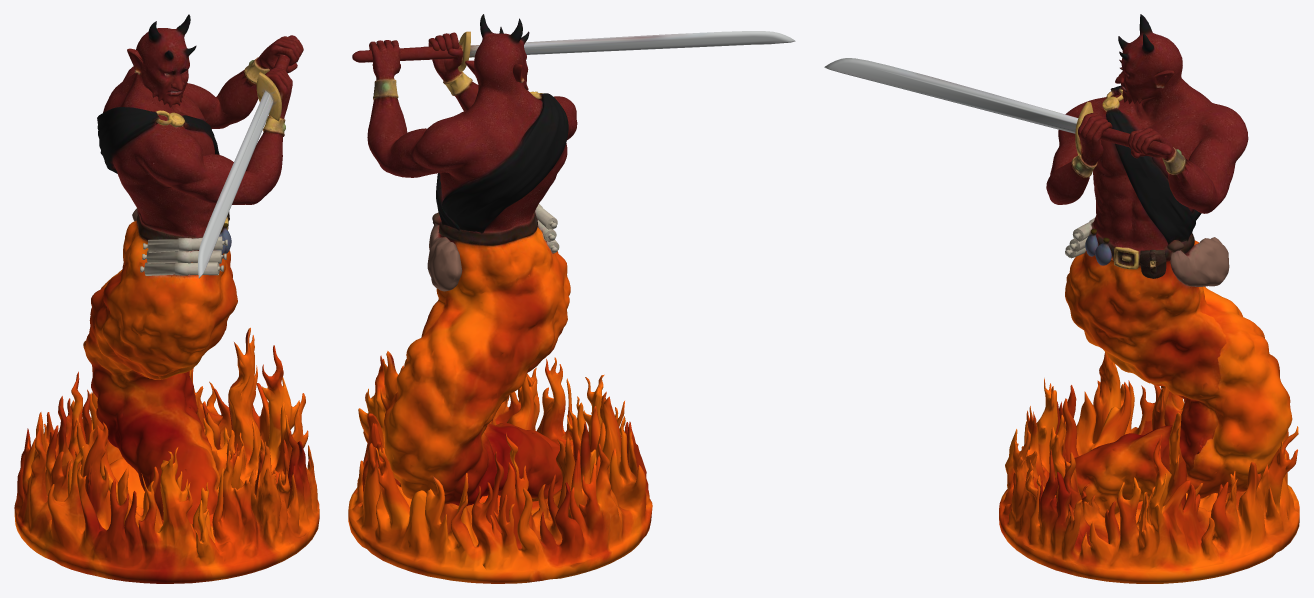
The model's file is MZ4250 - Efreeti.glb.
The picture shows the model from 3 angles, left to right: view 1: azimuth 30°, elevation 25°; view 2: azimuth 150°, elevation 25°; view 3: azimuth 270°, elevation 25°; orthographic projection.
Visible parts, largest first — view 1: default; view 2: default; view 3: default.
Boxes of the visible parts, bbox=[...] form: default: bbox=[14, 14, 319, 583]; default: bbox=[348, 14, 795, 583]; default: bbox=[824, 14, 1299, 583].
Bounding box in the file's own units: 0.7036 × 1.25 × 1.08.
Materials: 1 (1 with a texture image).
